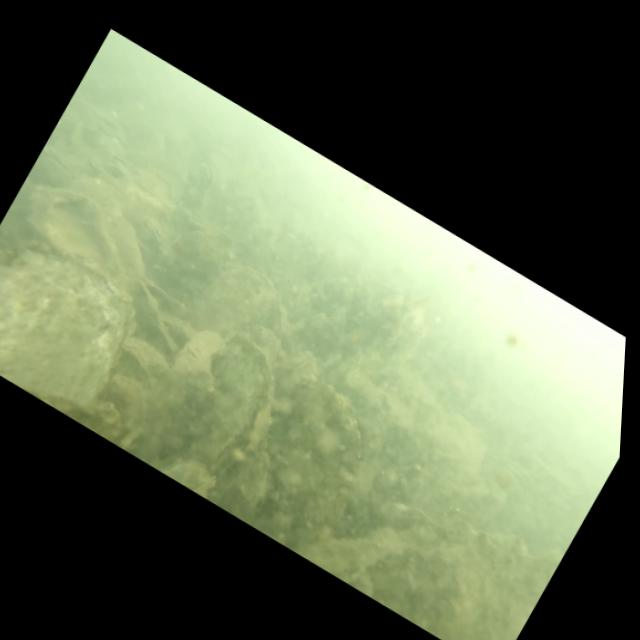Oyster-Closed: (223, 364, 396, 570), (152, 322, 299, 514), (118, 280, 199, 358), (92, 363, 163, 433), (106, 329, 177, 397), (264, 340, 323, 405), (254, 299, 306, 359), (132, 211, 174, 251)
Oyster-Indeterminate: (0, 212, 156, 430), (362, 476, 563, 640), (11, 167, 155, 293), (184, 246, 290, 363), (152, 314, 235, 419), (161, 212, 241, 303)
Oyster-Open: (170, 153, 223, 219), (31, 143, 84, 191)
